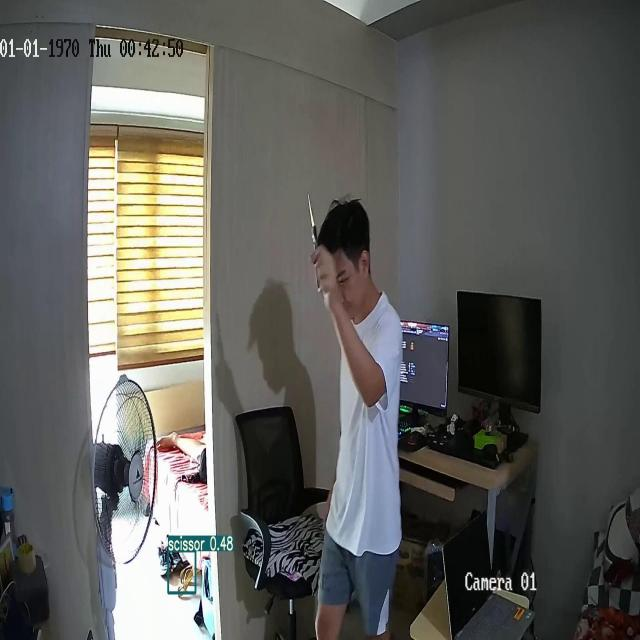scissor: (307, 192, 322, 292)
